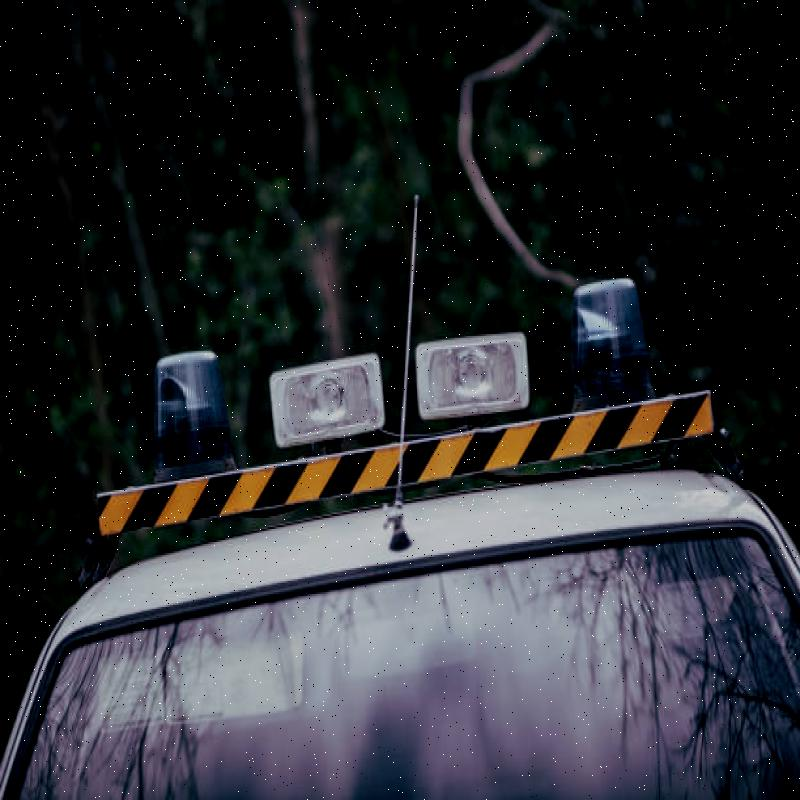AmbulanceSiren: (109, 264, 692, 532)
